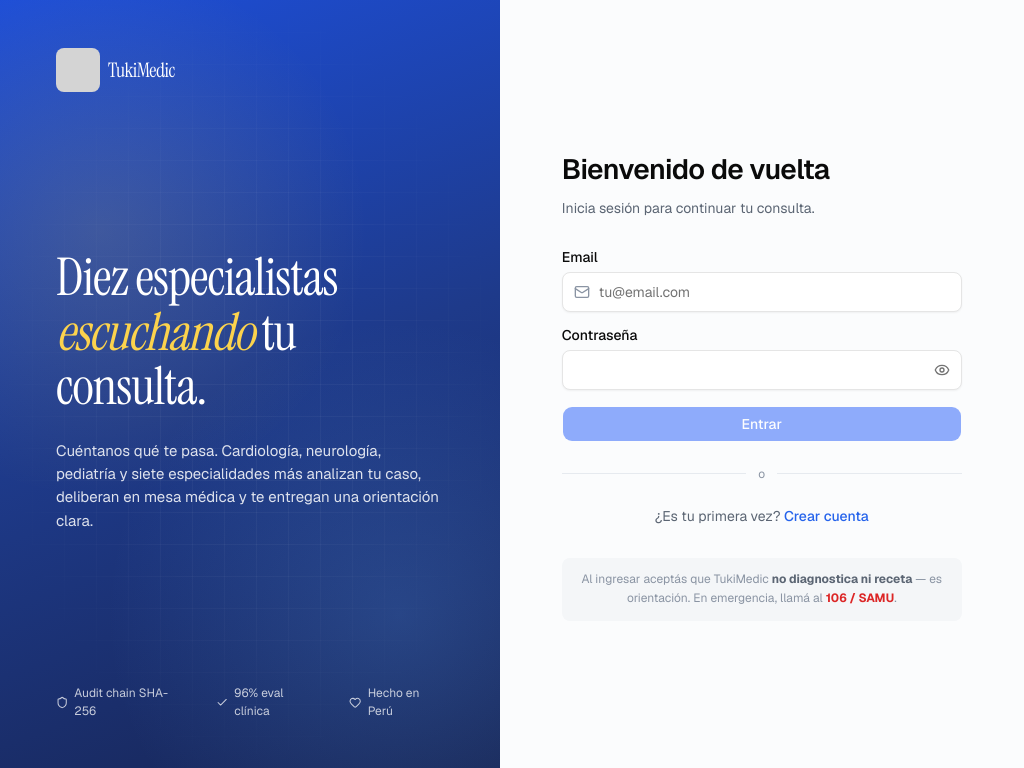
it: LoginPage › 429 shows rate limit message
The width and height of the screenshot is (1024, 768).
Type "x@x.com" into the field labelled "Email".
click(762, 292); type("x@x.com")  # box [562,272,962,312]
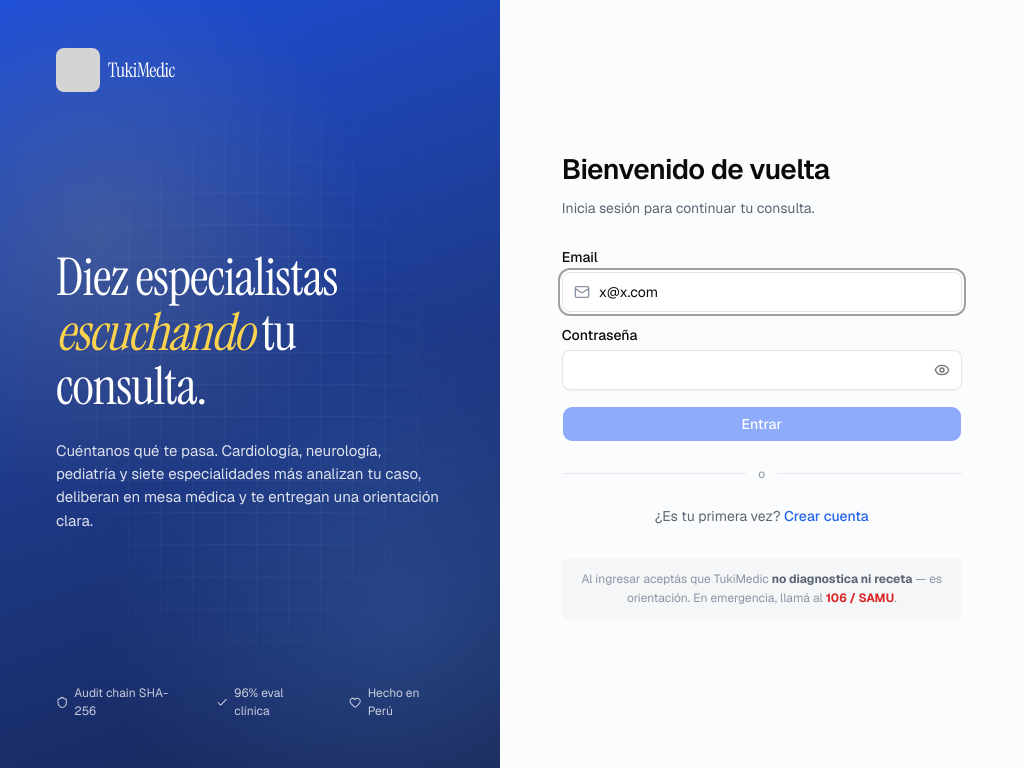
Type "somepassword" into the password field labelled "Contraseña".
click(762, 370); type("somepassword")  # box [562,350,962,390]
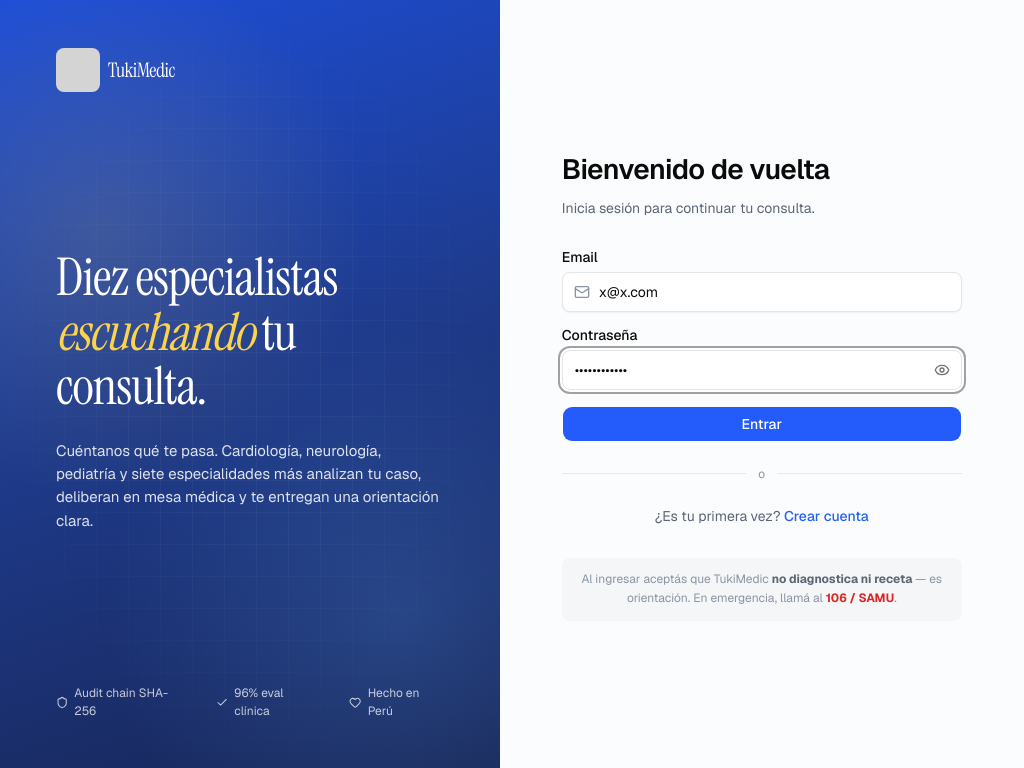
Click the button "Entrar".
click(762, 424)  # box [562,406,962,442]
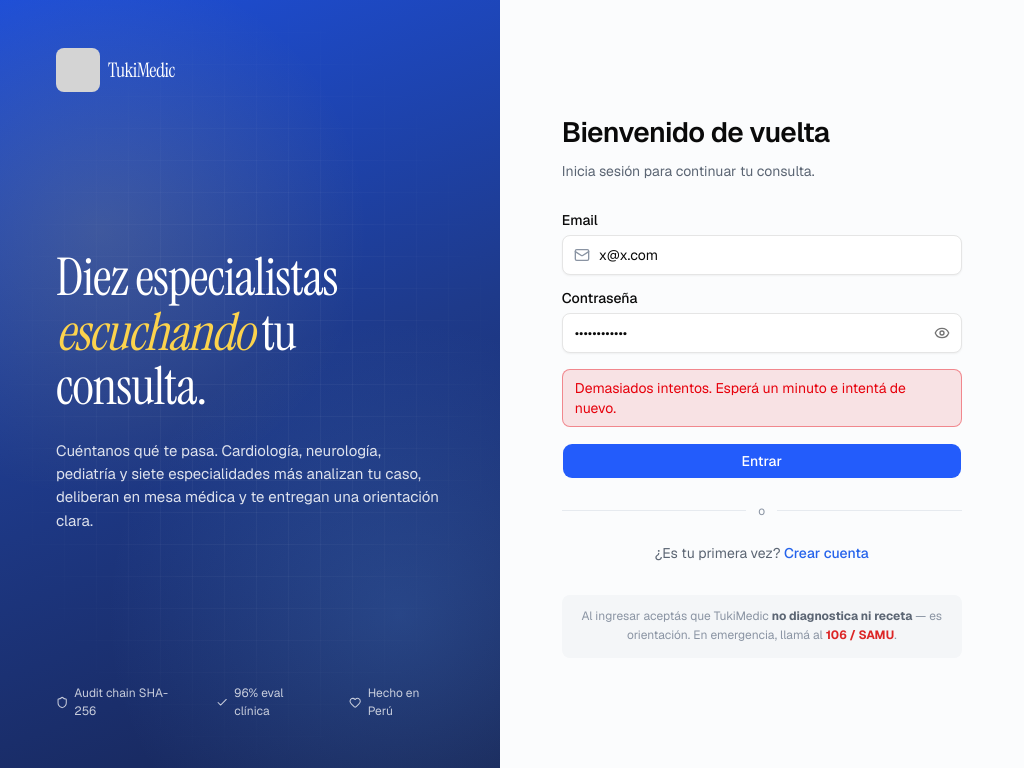
Result: the text "Demasiados intentos. Esperá un minuto e intentá de nuevo." is shown at [562,368,962,426]
